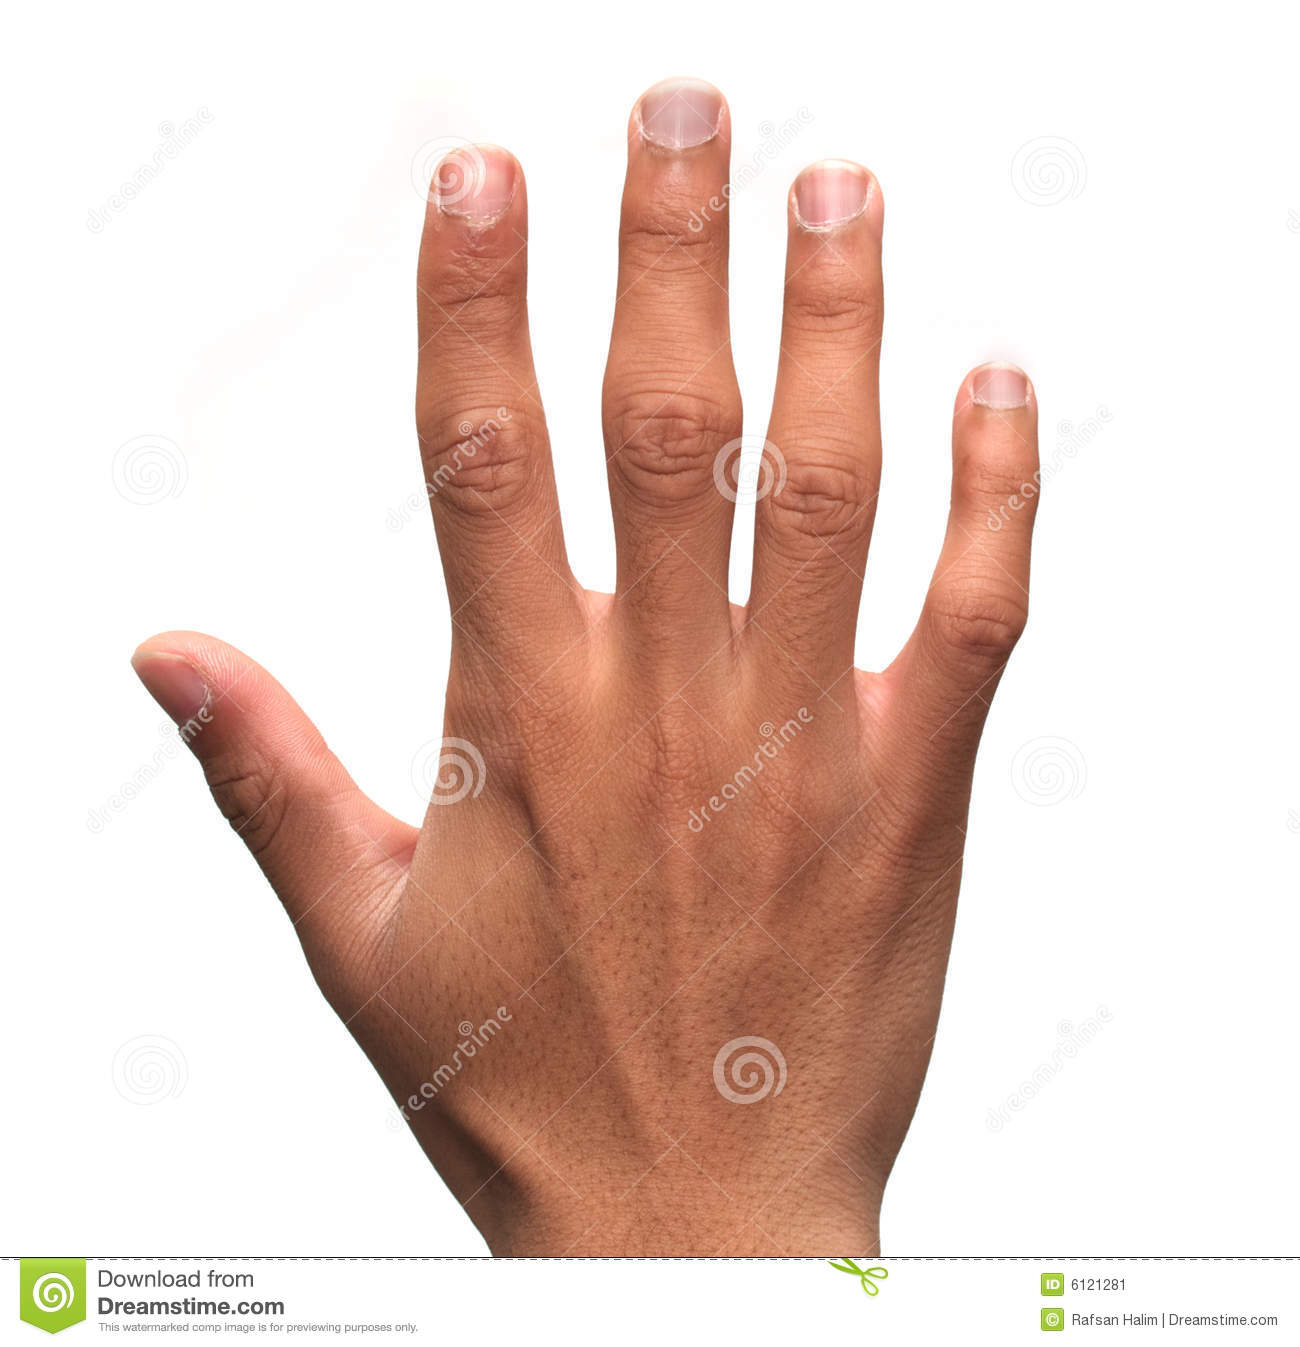finger: (736, 153, 920, 647), (594, 57, 744, 627), (398, 140, 552, 615), (881, 336, 1045, 726)
